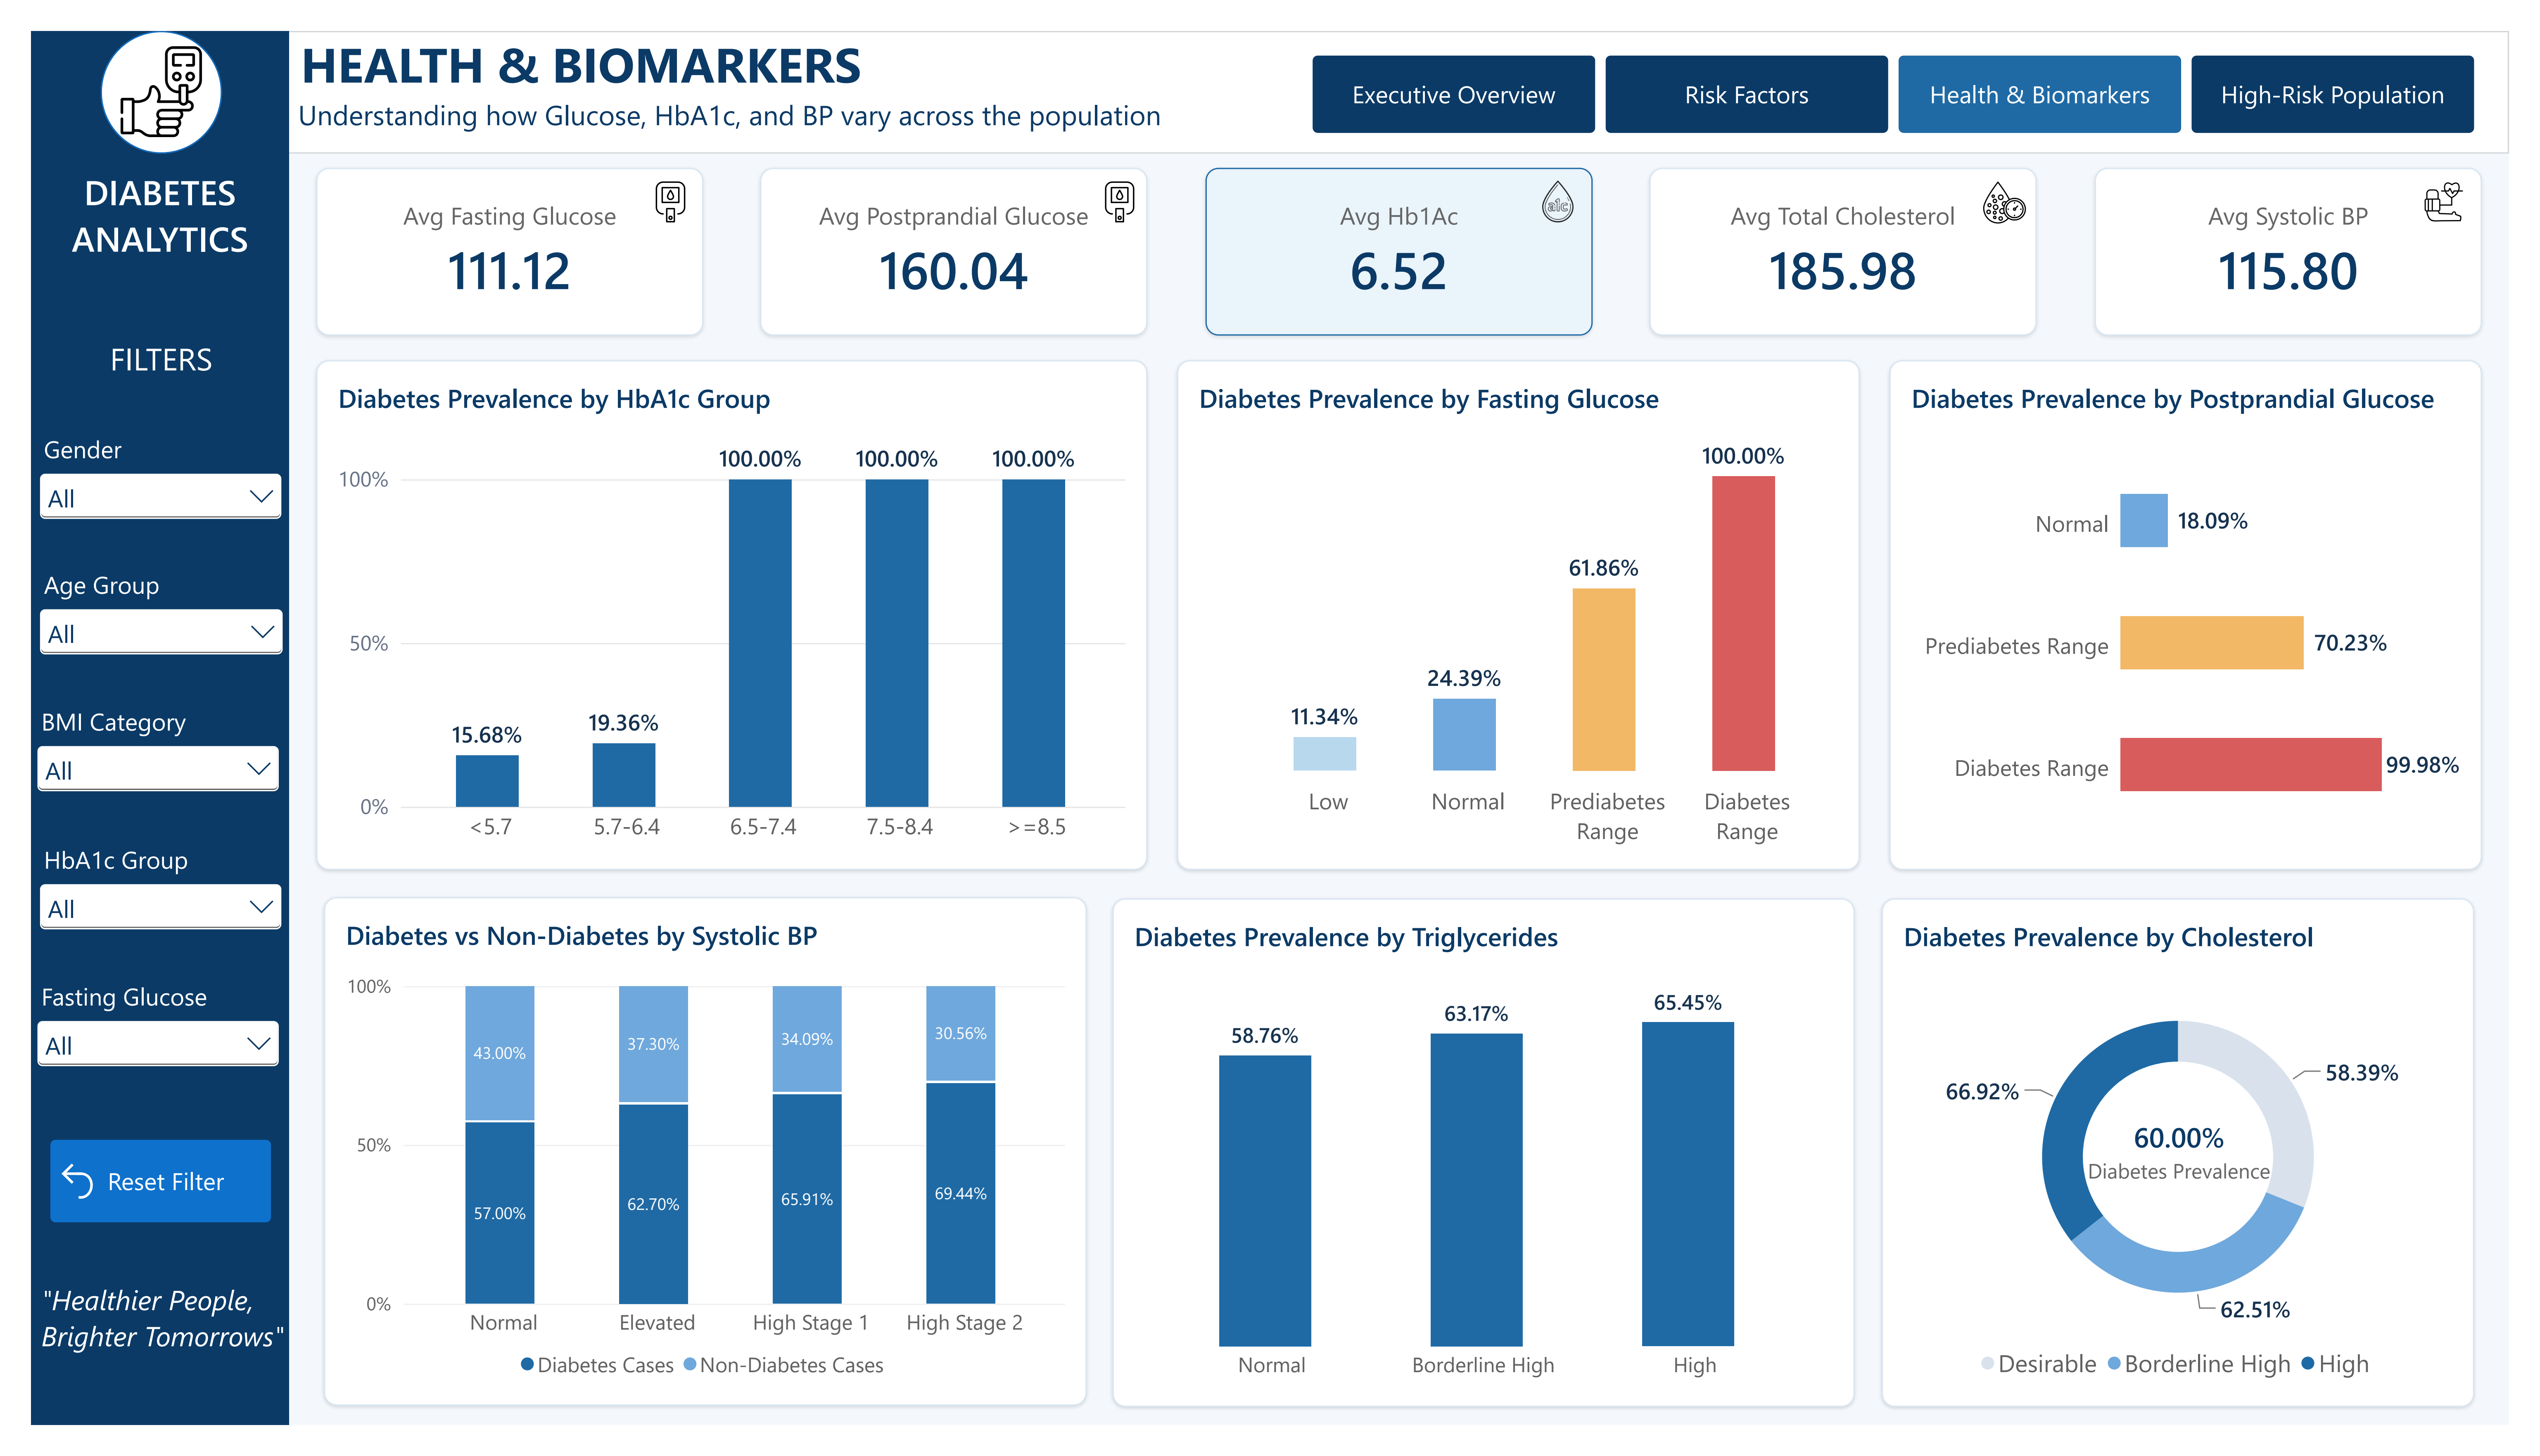

This screenshot's page, from the dashboard's own definition file:
{"tool":"powerbi","page":{"name":"Health & Biomarkers","canvas":[1920,1080],"ordinal":2},"visuals":[{"type":"shape","box":[198.2,0,1721.8,95],"z":0},{"type":"shape","box":[0,0,200.3,1079.7],"z":1000},{"type":"textbox","box":[209,0,454.8,50.3],"z":2000},{"type":"textbox","box":[207.1,50.3,739.4,34.8],"z":3000},{"type":"slicer","fields":{"Values":["DiabetesData.gender"]},"box":[1.9,311.3,197.4,71.6],"z":4000},{"type":"slicer","fields":{"Values":["DiabetesData.Age Group"]},"box":[2.1,416.2,198.2,72.3],"z":5000},{"type":"slicer","fields":{"Values":["DiabetesData.BMI GROUP"]},"box":[0,521.8,197.4,73.5],"z":6000},{"type":"slicer","fields":{"Values":["DiabetesData.Hb1Ac Group"]},"box":[1.9,628.6,197.4,73.5],"z":7000},{"type":"actionButton","box":[15.5,859.4,170.3,63.9],"z":8000},{"type":"textbox","box":[7.7,967.7,195.5,65.8],"z":9000},{"type":"shape","box":[53.7,0,94,94.8],"z":10000},{"type":"pageNavigator","box":[992.9,19.4,900,60],"z":11000},{"type":"textbox","box":[2.1,237.4,198.2,32],"z":12000},{"type":"image","box":[66.1,12.4,69.7,69.7],"z":13000},{"type":"textbox","box":[9.7,106.5,180,94.8],"z":14000},{"type":"slicer","fields":{"Values":["DiabetesData.Fasting Glucose Group"]},"box":[0,735.5,197.4,73.5],"z":15000},{"type":"cardVisual","fields":{"Data":["_Measures.Avg Fasting Glucose"]},"box":[220.6,106.5,300,130],"z":16000},{"type":"cardVisual","fields":{"Data":["_Measures.Avg Postprandial Glucose"]},"box":[565.2,106.5,300,130],"z":17000},{"type":"cardVisual","fields":{"Data":["_Measures.Avg Hb1Ac"]},"box":[909.7,106.5,300,130],"z":18000},{"type":"cardVisual","fields":{"Data":["_Measures.Avg Systolic BP"]},"box":[1598.7,106.5,300,130],"z":19000},{"type":"cardVisual","fields":{"Data":["_Measures.Avg Total Cholesterol"]},"box":[1254.2,106.5,300,130],"z":20000},{"type":"clusteredColumnChart","title":"Diabetes Prevalence by HbA1c Group","fields":{"Category":["DiabetesData.Hb1Ac Group"],"Y":["_Measures.Diabetes Prevalence"]},"box":[220.6,255.5,644.5,394.8],"z":21000},{"type":"clusteredBarChart","title":"Diabetes Prevalence by Postprandial Glucose","fields":{"Category":["DiabetesData.Postprandial Glucose Group"],"Y":["_Measures.Diabetes Prevalence"]},"box":[1440,255.5,458.7,394.8],"z":22000},{"type":"clusteredColumnChart","title":"Diabetes Prevalence by Triglycerides","fields":{"Category":["DiabetesData.Triglycerides Group"],"Y":["_Measures.Diabetes Prevalence"]},"box":[838.1,671.6,574.8,394.8],"z":23000},{"type":"hundredPercentStackedColumnChart","title":"Diabetes vs Non-Diabetes by Systolic BP","fields":{"Category":["DiabetesData.Systolic BP Group"],"Y":["_Measures.Diabetes Cases","_Measures.Non-Diabetes Cases"]},"box":[227.1,671,590.5,394.3],"z":24000},{"type":"donutChart","title":"Diabetes Prevalence by Cholesterol","fields":{"Category":["DiabetesData.Cholesterol Group"],"Y":["_Measures.Diabetes Prevalence"]},"box":[1434.2,671.6,458.7,394.8],"z":25000},{"type":"clusteredColumnChart","title":"Diabetes Prevalence by Fasting Glucose","fields":{"Category":["DiabetesData.Fasting Glucose Group"],"Y":["_Measures.Diabetes Prevalence"]},"box":[888.4,255.5,528.4,394.8],"z":26000},{"type":"cardVisual","fields":{"Data":["_Measures.Diabetes Prevalence"]},"box":[1560,820.6,209,94.8],"z":26001},{"type":"image","box":[478.1,114.7,34.8,34.8],"z":26002},{"type":"image","box":[826.5,114.7,34.8,34.8],"z":26003},{"type":"image","box":[1163.2,112.1,40,40],"z":26004},{"type":"image","box":[1511.6,114.7,34.8,34.8],"z":26005},{"type":"image","box":[1852.3,114.6,35,35],"z":26006}]}

Visuals, with their boxes on the page's 1920x1080 design canvas (x1, y1, x2, y2). These are canvas units, not pixel positions in the 2540x1456 screenshot, which may show the page scaled, cropped or inside an application window:
shape: l=198, t=0, r=1920, b=95
shape: l=0, t=0, r=200, b=1080
textbox: l=209, t=0, r=664, b=50
textbox: l=207, t=50, r=946, b=85
slicer - DiabetesData.gender: l=2, t=311, r=199, b=383
slicer - DiabetesData.Age Group: l=2, t=416, r=200, b=488
slicer - DiabetesData.BMI GROUP: l=0, t=522, r=197, b=595
slicer - DiabetesData.Hb1Ac Group: l=2, t=629, r=199, b=702
actionButton: l=16, t=859, r=186, b=923
textbox: l=8, t=968, r=203, b=1034
shape: l=54, t=0, r=148, b=95
pageNavigator: l=993, t=19, r=1893, b=79
textbox: l=2, t=237, r=200, b=269
image: l=66, t=12, r=136, b=82
textbox: l=10, t=106, r=190, b=201
slicer - DiabetesData.Fasting Glucose Group: l=0, t=736, r=197, b=809
cardVisual - _Measures.Avg Fasting Glucose: l=221, t=106, r=521, b=236
cardVisual - _Measures.Avg Postprandial Glucose: l=565, t=106, r=865, b=236
cardVisual - _Measures.Avg Hb1Ac: l=910, t=106, r=1210, b=236
cardVisual - _Measures.Avg Systolic BP: l=1599, t=106, r=1899, b=236
cardVisual - _Measures.Avg Total Cholesterol: l=1254, t=106, r=1554, b=236
"Diabetes Prevalence by HbA1c Group" clusteredColumnChart: l=221, t=256, r=865, b=650
"Diabetes Prevalence by Postprandial Glucose" clusteredBarChart: l=1440, t=256, r=1899, b=650
"Diabetes Prevalence by Triglycerides" clusteredColumnChart: l=838, t=672, r=1413, b=1066
"Diabetes vs Non-Diabetes by Systolic BP" hundredPercentStackedColumnChart: l=227, t=671, r=818, b=1065
"Diabetes Prevalence by Cholesterol" donutChart: l=1434, t=672, r=1893, b=1066
"Diabetes Prevalence by Fasting Glucose" clusteredColumnChart: l=888, t=256, r=1417, b=650
cardVisual - _Measures.Diabetes Prevalence: l=1560, t=821, r=1769, b=915
image: l=478, t=115, r=513, b=150
image: l=826, t=115, r=861, b=150
image: l=1163, t=112, r=1203, b=152
image: l=1512, t=115, r=1546, b=150
image: l=1852, t=115, r=1887, b=150
